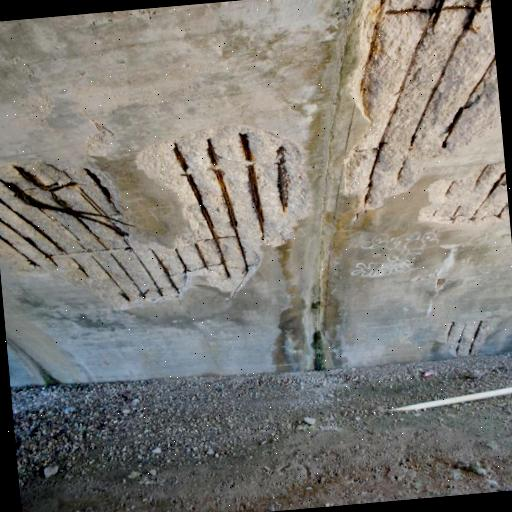spalling: (0, 129, 316, 314), (340, 0, 491, 207), (412, 161, 507, 228), (435, 314, 495, 360)
